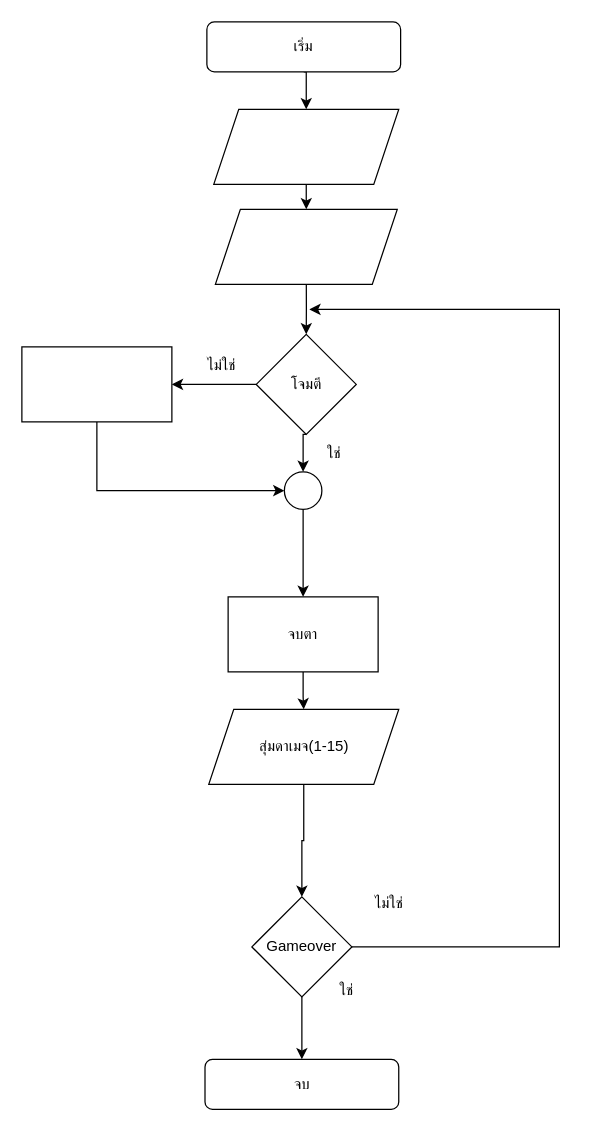
Some shapes in this 591 by 1131 pixel diagram are drawn without their labels. Here are the shapes that lost their labels. From the top down, the centre of each, then its label:
At point (305, 146): "Import random".
At point (305, 246): "สุ่มค่าพลัง(100-150)".
At point (96, 384): "เพิ่มค่าพลัง".
